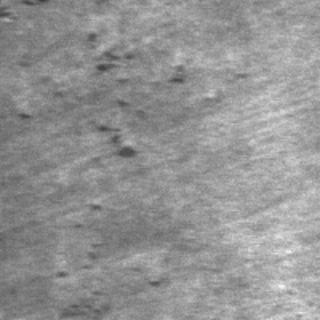rolled pit: (81, 39, 202, 155)
